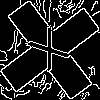X: (25, 25, 79, 81)
